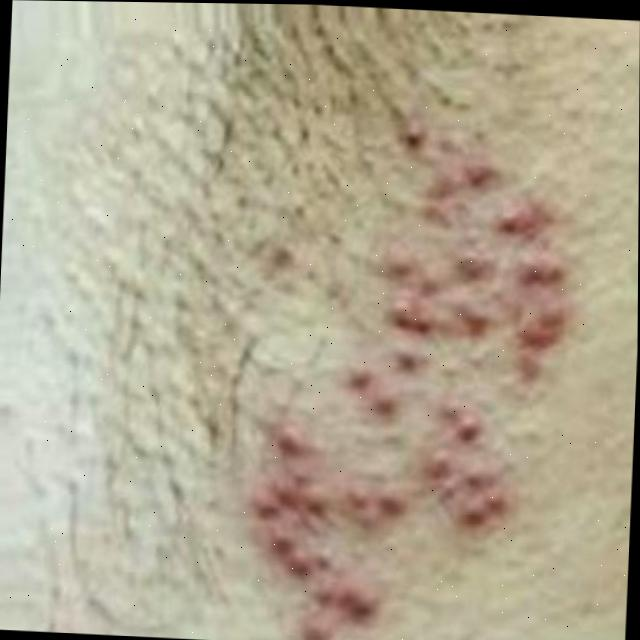Shingles: (242, 125, 576, 640)
